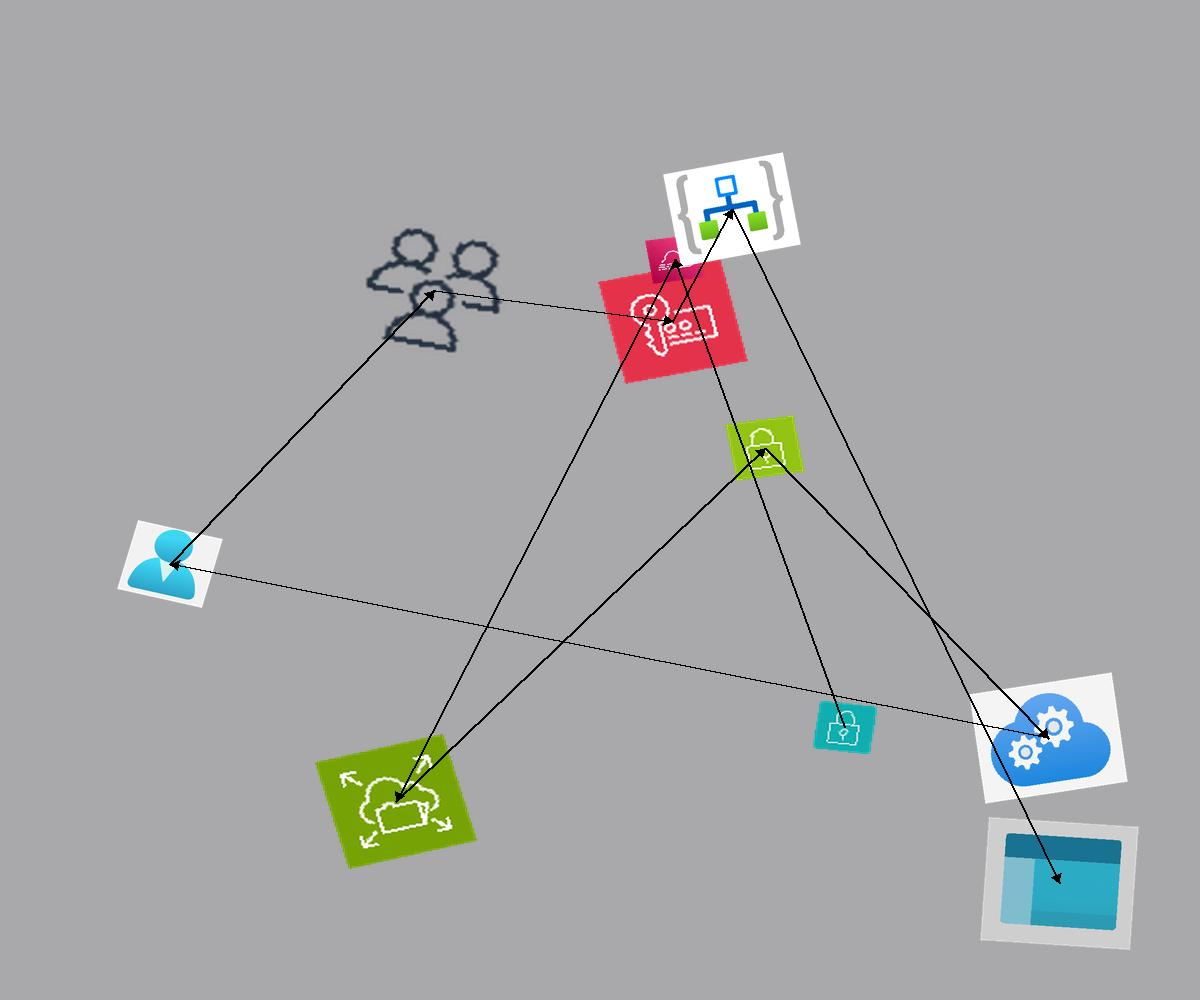AWS-CloudTrail: (645, 234, 705, 284)
AWS-EFS: (315, 734, 477, 869)
AWS-Key-Management-Service: (598, 259, 748, 384)
AWS-Private-subnet: (812, 700, 878, 755)
AWS-Public-subnet: (724, 414, 806, 482)
AWS-Res_Users: (345, 216, 524, 365)
Azure_cloud_services: (969, 672, 1128, 804)
Azure_integration-204-Logic-Apps: (663, 152, 801, 267)
Azure_management-portal: (980, 817, 1139, 950)
Azure_users: (117, 520, 223, 608)
